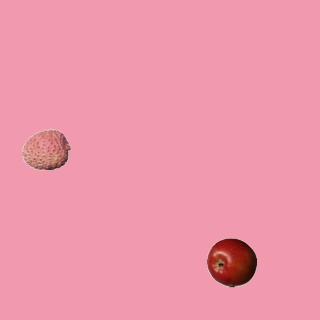Apple Braeburn: (206, 237, 256, 287)
Lychee: (21, 124, 71, 174)
